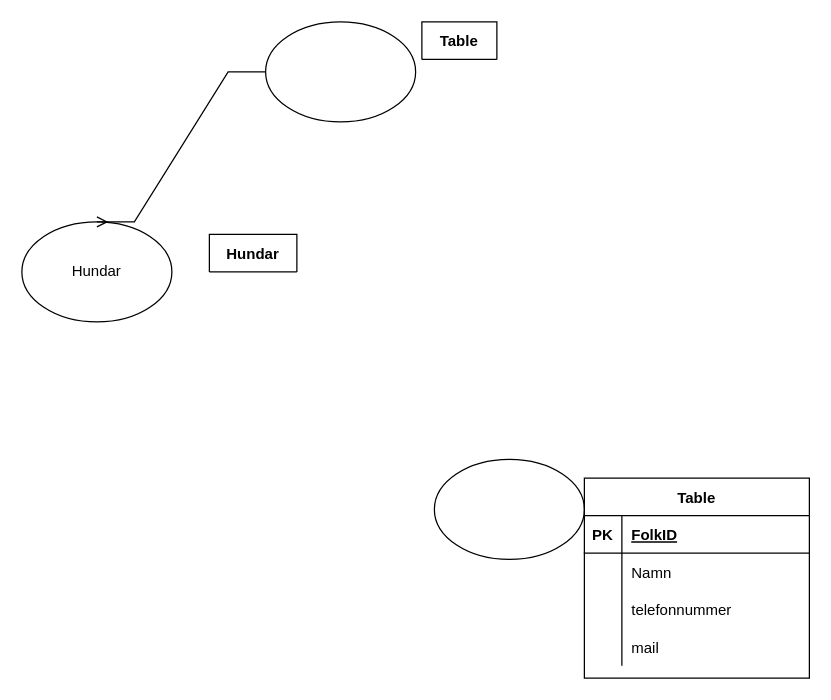
This 831x700 diagram has some shape labels left out. The shapes that lost their labels are listed below. From the top down, each one's centre as x and y in pixels, then its label:
At [340,71]: "Anställd".
At [508,508]: "Folk".
